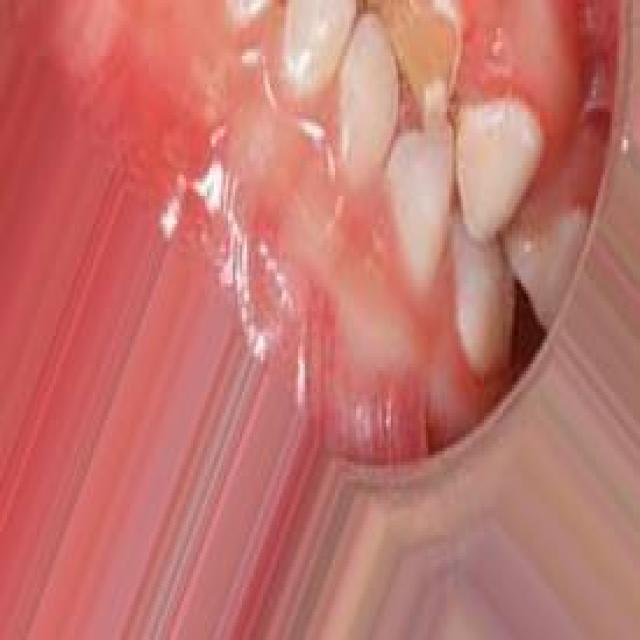caries: (376, 0, 467, 133)
